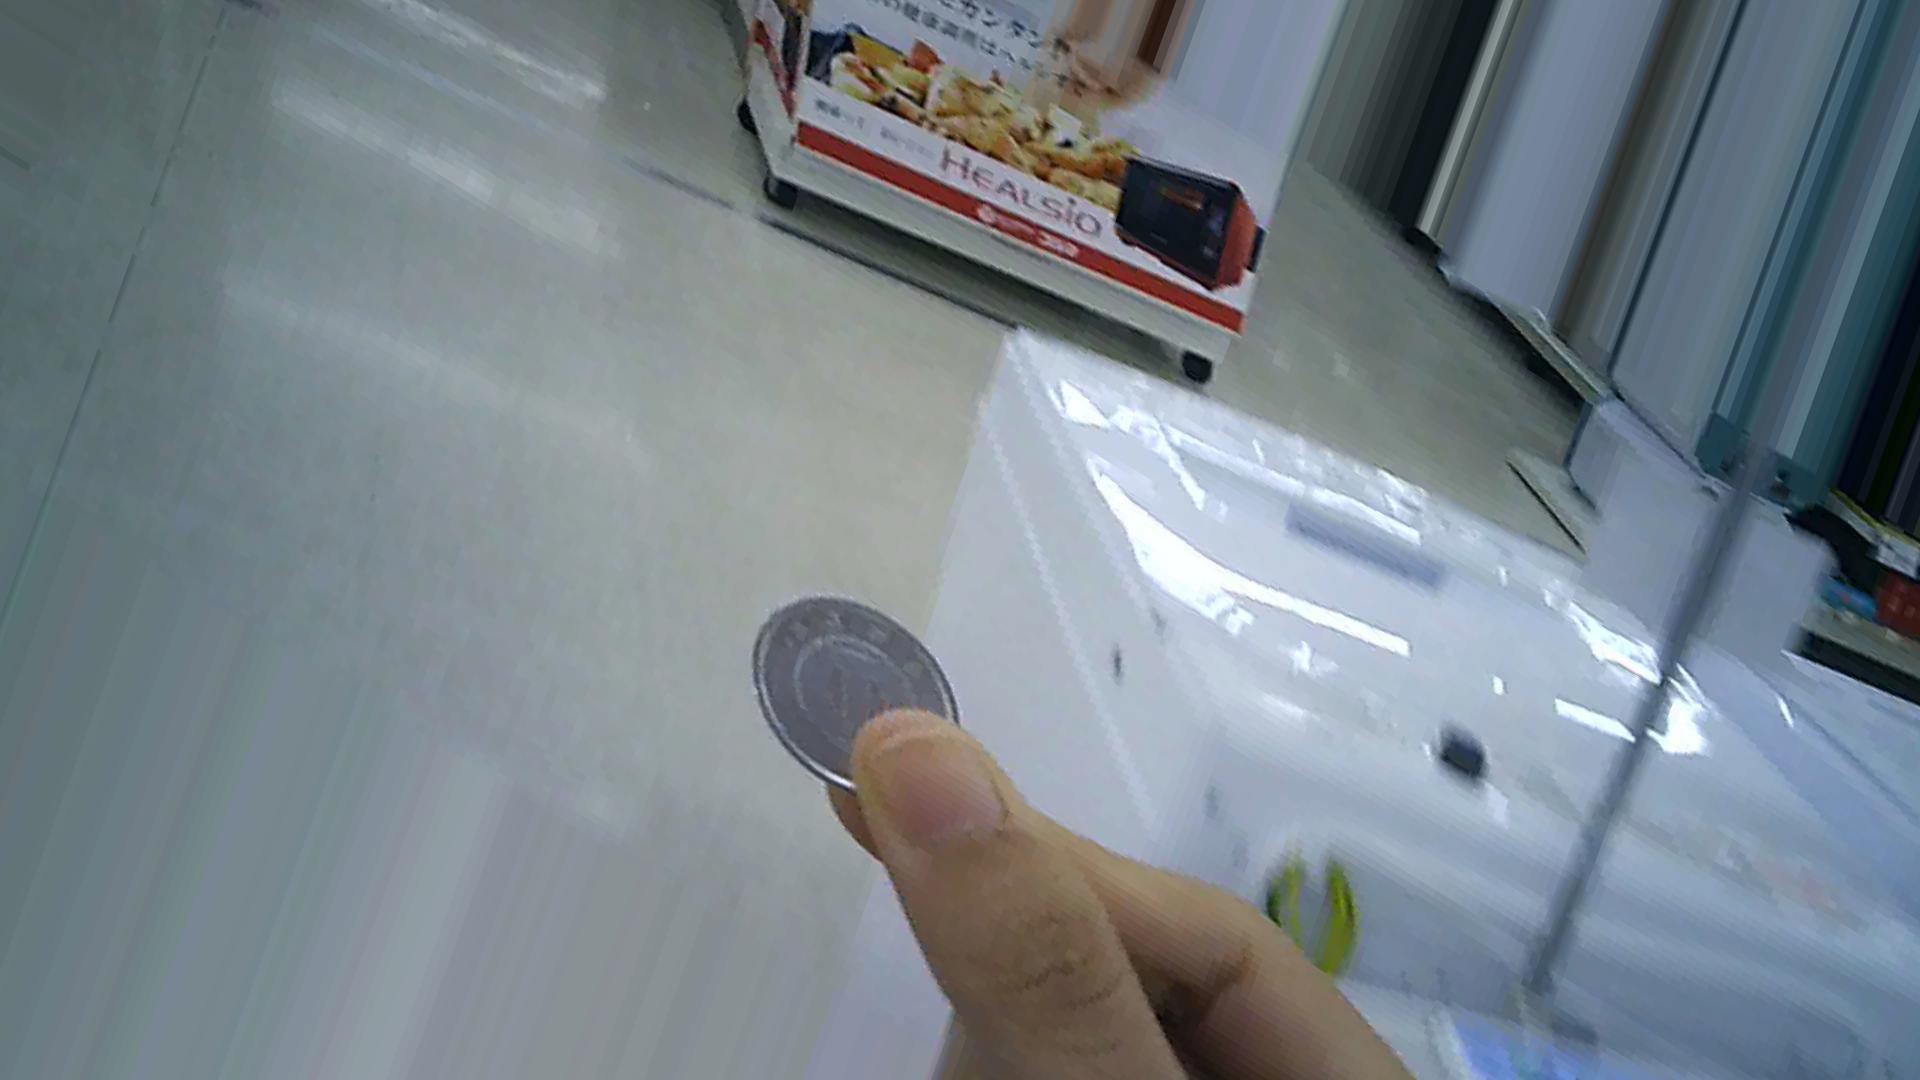1 Yen: (746, 585, 973, 802)
